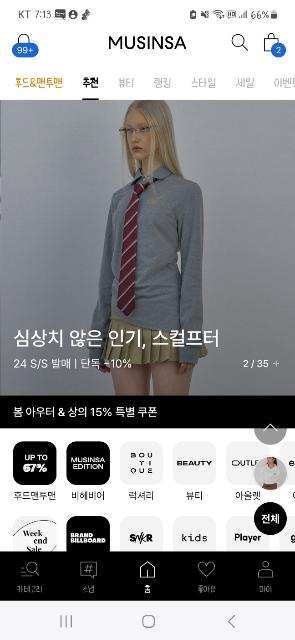Bottom_Navigation: (0, 550, 295, 599)
Icon: (12, 34, 38, 56), (264, 33, 286, 57), (19, 562, 41, 578), (231, 34, 249, 50), (140, 561, 156, 579), (198, 562, 216, 578), (258, 561, 274, 577), (82, 563, 96, 579)
Image: (1, 101, 295, 395), (173, 442, 217, 486), (14, 441, 56, 485), (66, 442, 110, 484), (121, 441, 163, 485), (227, 442, 269, 484), (13, 516, 57, 552), (173, 516, 217, 552), (68, 516, 110, 552), (226, 516, 270, 550), (120, 517, 162, 551)
ImageButton: (255, 412, 287, 444), (255, 457, 287, 489)
Multi_Tab: (0, 63, 295, 101)
Text: (14, 329, 218, 347), (14, 406, 156, 418), (13, 359, 131, 369), (109, 36, 187, 50), (16, 78, 62, 89), (16, 491, 56, 501), (244, 360, 280, 368), (72, 492, 104, 501), (190, 78, 216, 88), (236, 490, 260, 500), (128, 492, 154, 501), (154, 76, 171, 88), (236, 77, 254, 87), (262, 514, 280, 524), (84, 76, 98, 88), (17, 586, 41, 592), (120, 78, 134, 88), (188, 492, 203, 501), (18, 46, 34, 54), (199, 585, 215, 593), (83, 585, 95, 593), (260, 584, 272, 592), (144, 584, 152, 594), (277, 48, 281, 54)
TextButton: (254, 502, 288, 534)
TextImageButton: (12, 442, 58, 501), (66, 442, 110, 501), (226, 442, 270, 501), (121, 442, 163, 501), (174, 442, 216, 500), (18, 562, 42, 594), (198, 562, 216, 592), (140, 561, 156, 593), (258, 560, 274, 592), (81, 562, 97, 592)
Toolbar: (0, 30, 295, 63)
UpperTaskBar: (0, 0, 295, 29)
